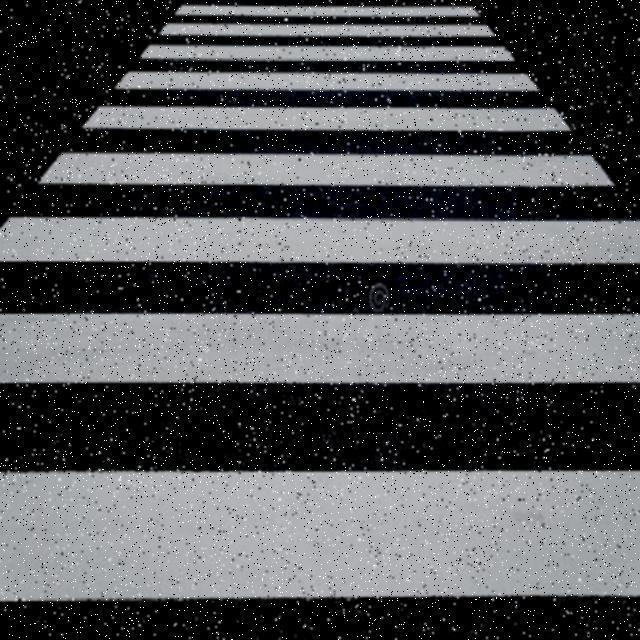Pedestrian crosswalk: (3, 0, 640, 623)
